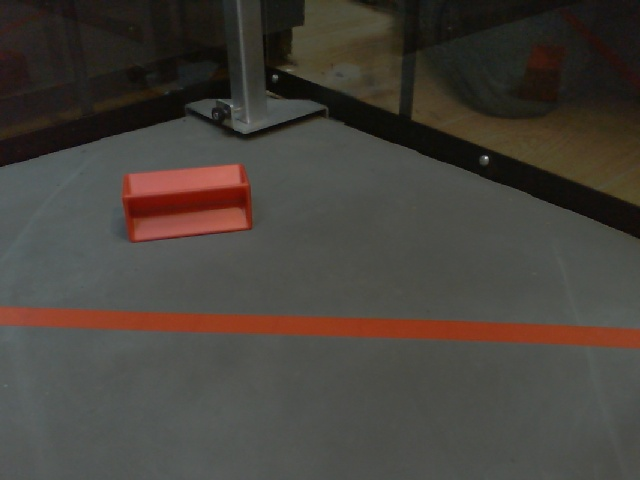RedSample: (121, 160, 256, 244)
